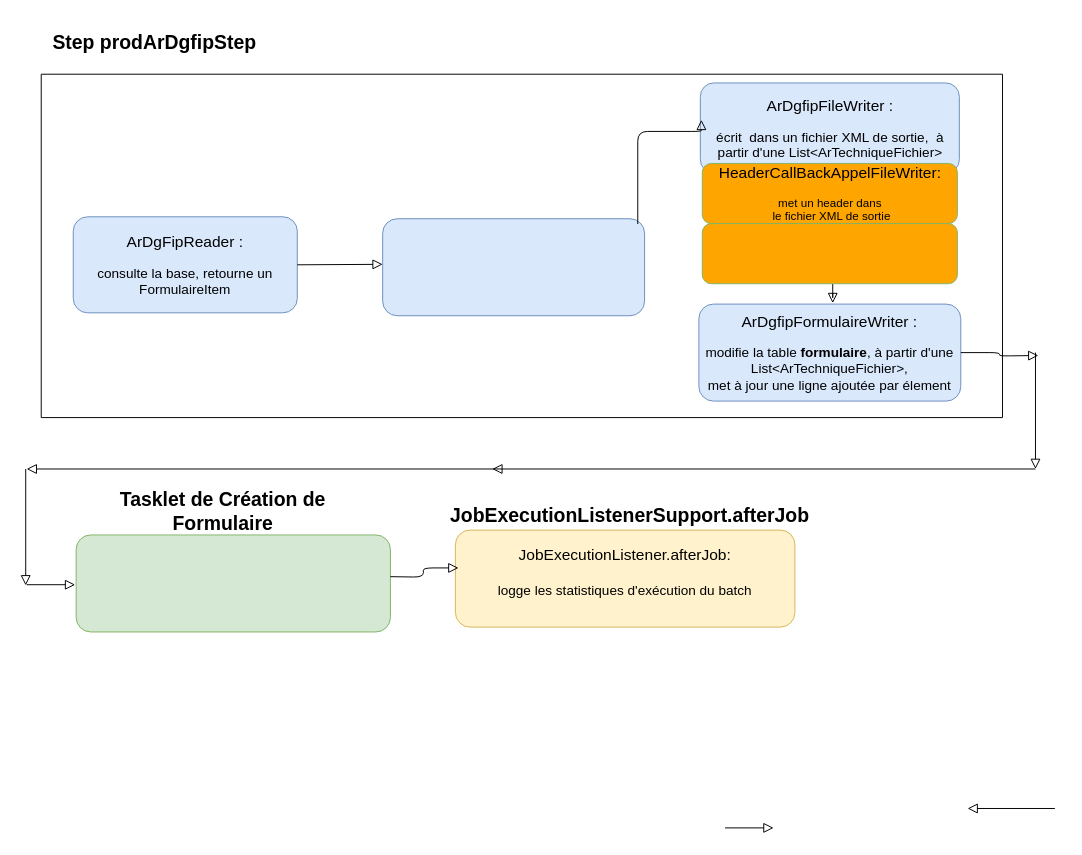
The diagram is 1082 pixels wide and 855 high, and some of its shapes have lost their labels. The centre of each missing label's shape, as x and y in pixels:
ArDgFipProcessor : prend un FormulaireItem et retourne un ArTechniqueFichier: the point at 513,267
CreationFormulaireTasklet : ajoute une ligne dans la table formulaire: the point at 232,583
FooterCallBackAppelFileWriter: met un footer dans le fichier XML de sortie: the point at 829,253
